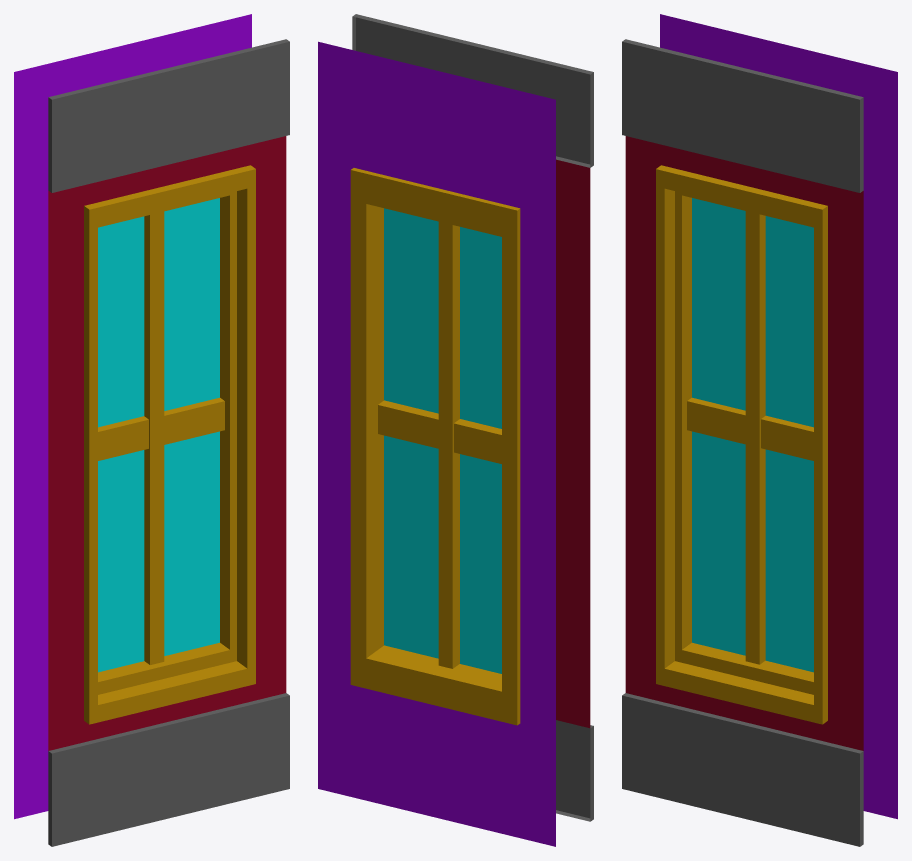
Rendered from Window_01_1x3.fbx.
3 renders of one model, left to right at view 1: azimuth 30°, elevation 25°; view 2: azimuth 150°, elevation 25°; view 3: azimuth 330°, elevation 25°, orthographic.
Visible parts, largest first — view 1: Window_01_1x3; view 2: Window_01_1x3; view 3: Window_01_1x3.
Part boxes in pixels (bbox=[...]): Window_01_1x3: bbox=[14, 14, 289, 846]; Window_01_1x3: bbox=[318, 14, 593, 846]; Window_01_1x3: bbox=[622, 14, 897, 846].
Size of the model in its own units: 1 by 3 by 0.3106.
